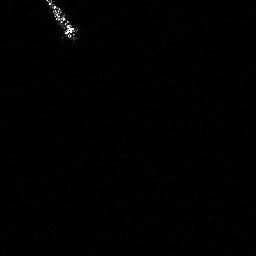ship: (42, 1, 83, 43)
